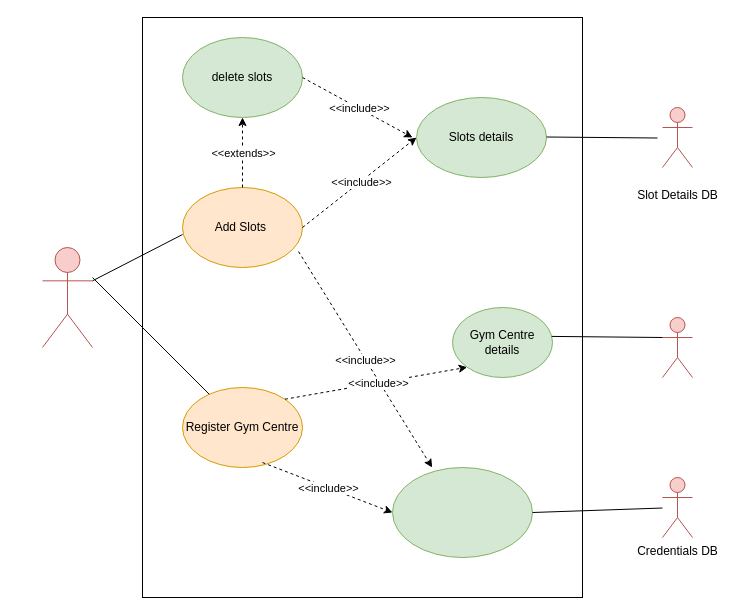
Image size: 737x615. Some labels were removed from this diagram. The centre of each missing label's shape, as x and y in pixels:
"Credentials Validation" belongs at (462,512).
"FlipFit Gym Owner" belongs at (67,297).
"Gym Centre DB" belongs at (677,347).
